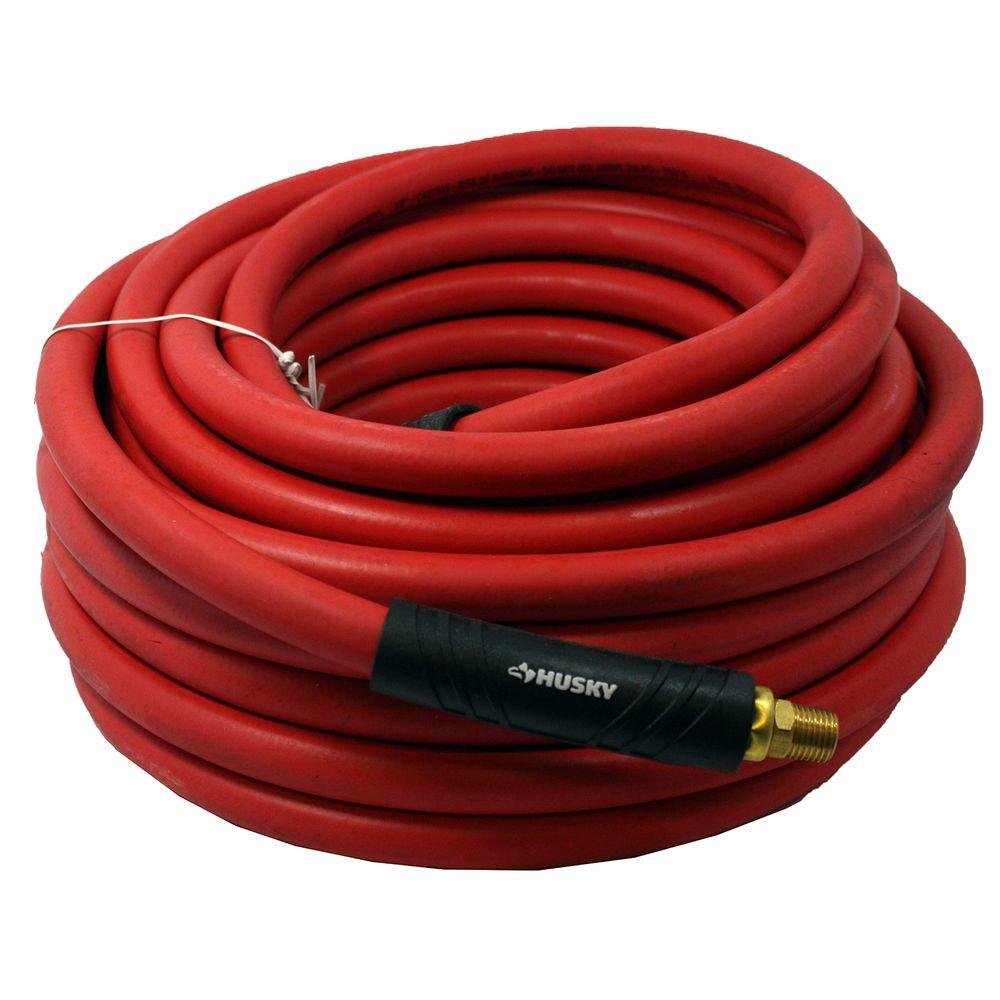Nonrec_Tangler: (36, 89, 973, 888)
